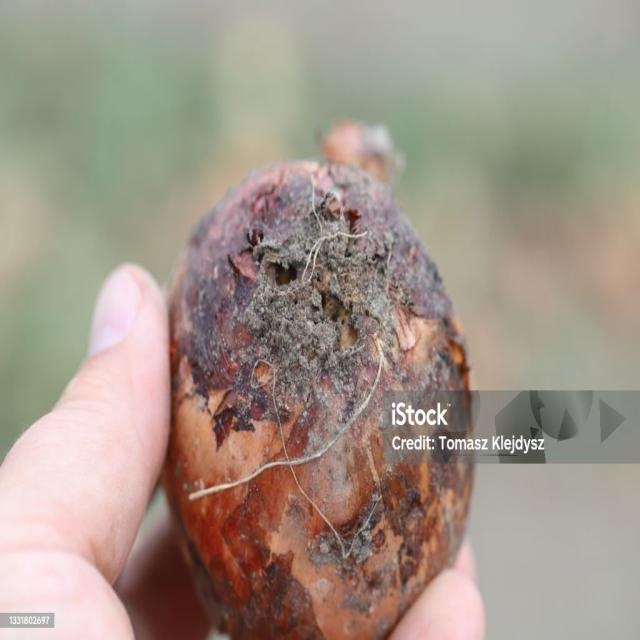rotten: (168, 158, 466, 630)
